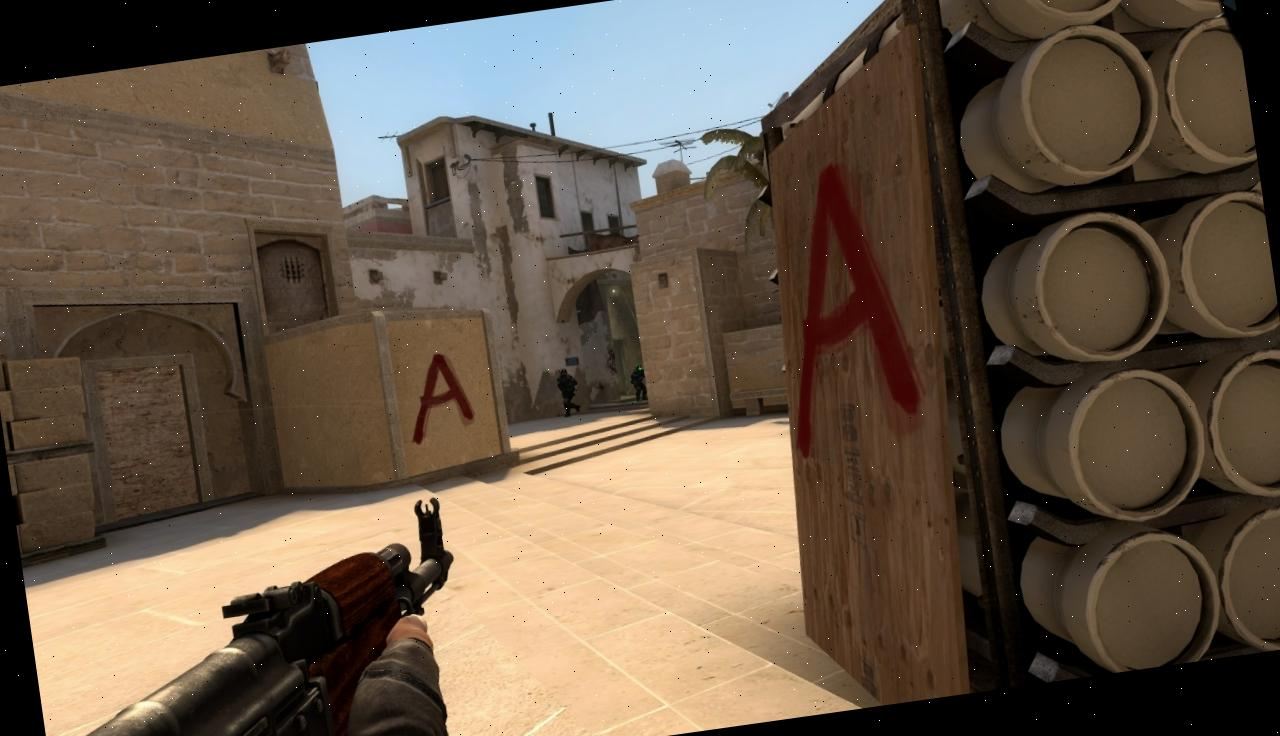ct: (553, 367, 582, 418), (628, 363, 648, 402)
cthead: (557, 368, 569, 378), (634, 364, 641, 370)
rifle: (20, 496, 482, 736)
